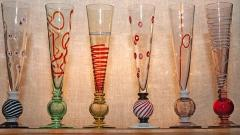glass: (0, 1, 240, 130)
